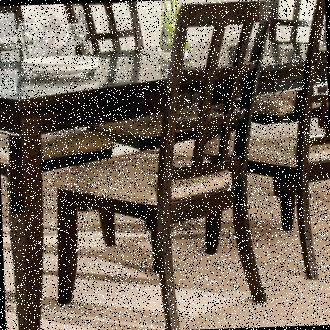Silla: (46, 0, 290, 328)
